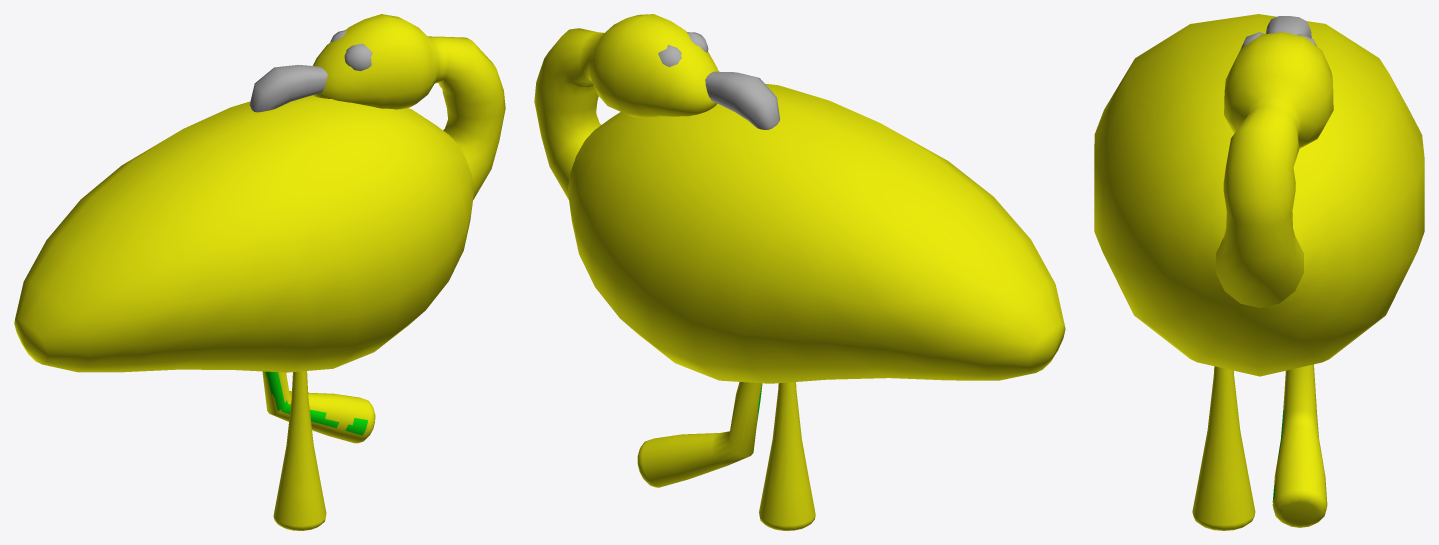
Rendered from LawnFlamingo.fbx.
The picture shows the model from 3 angles, left to right: view 1: azimuth 30°, elevation 25°; view 2: azimuth 150°, elevation 25°; view 3: azimuth 270°, elevation 25°; orthographic projection. The views are drawn at different scales.
Parts seen in each view (by area): view 1: LawnFlamingo_obj_Outline4, LawnFlamingo_obj, LawnFlamingo_obj_Outline3; view 2: LawnFlamingo_obj_Outline4, LawnFlamingo_obj; view 3: LawnFlamingo_obj_Outline4, LawnFlamingo_obj.
Part boxes in pixels (x1,y1,x2,y2): LawnFlamingo_obj_Outline4: (14,14,505,530); LawnFlamingo_obj: (249,30,372,112); LawnFlamingo_obj_Outline3: (265,371,367,435); LawnFlamingo_obj_Outline4: (534,14,1065,530); LawnFlamingo_obj: (658,32,779,129); LawnFlamingo_obj_Outline4: (1094,14,1424,530); LawnFlamingo_obj: (1241,16,1316,48).
Bounding box in the file's own units: 194 × 178 × 98.29.
